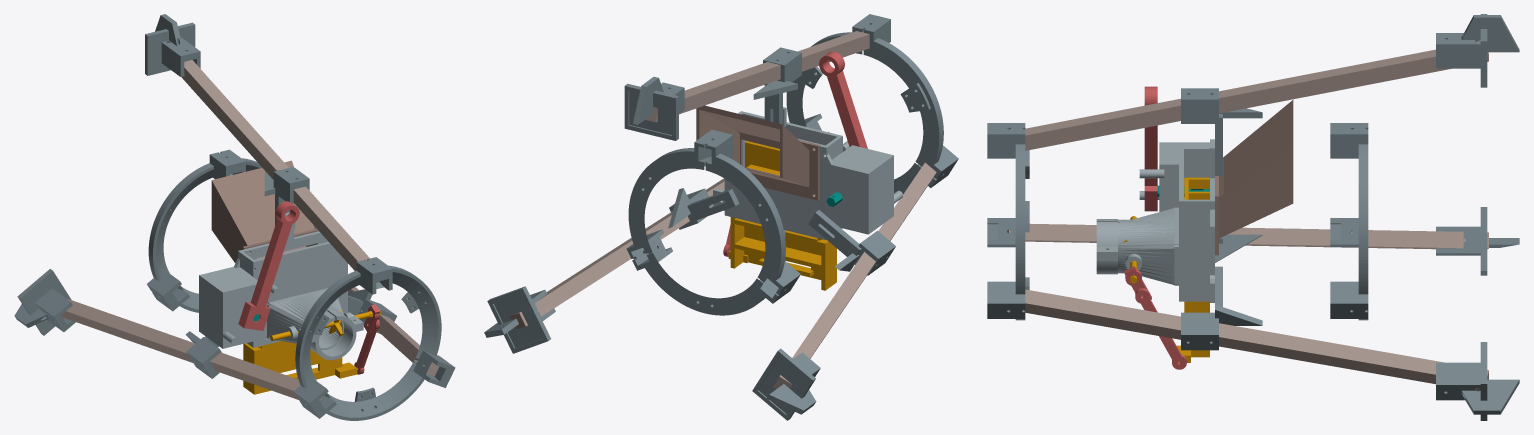
File: conjunto_alimento.glb
The picture shows the model from 3 angles, left to right: view 1: azimuth 30°, elevation 25°; view 2: azimuth 150°, elevation 25°; view 3: azimuth 270°, elevation 25°; orthographic projection. The views are drawn at different scales.
Parts seen in each view (by area): view 1: world; view 2: world; view 3: world.
Boxes of the visible parts, x1,y1,x2,y2 form: world: [14, 14, 455, 420]; world: [484, 14, 958, 420]; world: [987, 14, 1519, 420].
Size of the model in its own units: 495 by 444 by 644.
